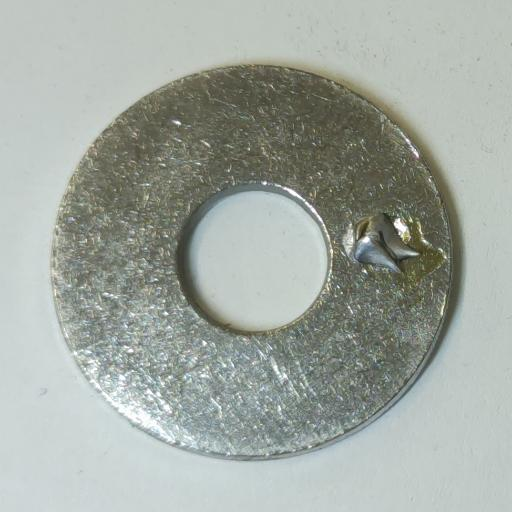excess_material: (354, 213, 421, 274)
